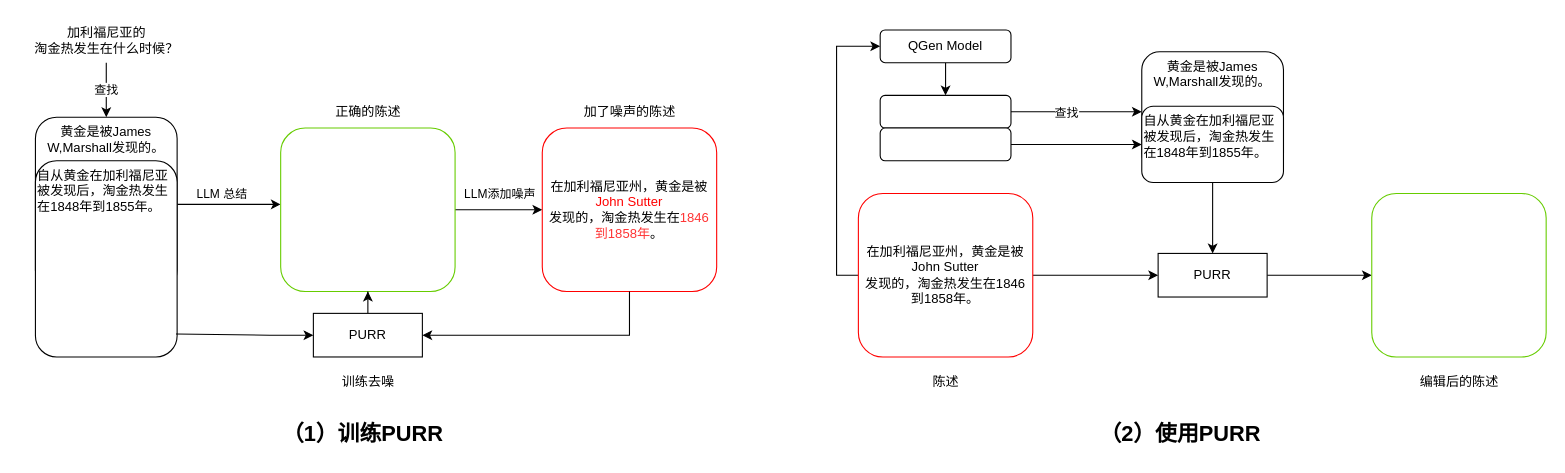
Image size: 1565x473. Some labels were removed from this diagram. Here are the shapes that lost their labels. From the top down, the centre of each, then its label:
[945,111]: 谁发现的黄金
[945,144]: 发生在什么时候
[367,209]: 在加利福尼亚州，黄金是被James W,Marshall发现的，淘金热发生在1848年到1855年。
[1458,274]: 在加利福尼亚州，黄金是被 James W,Marshal l 发现的，淘金热发生在 1848年到1855年 。
